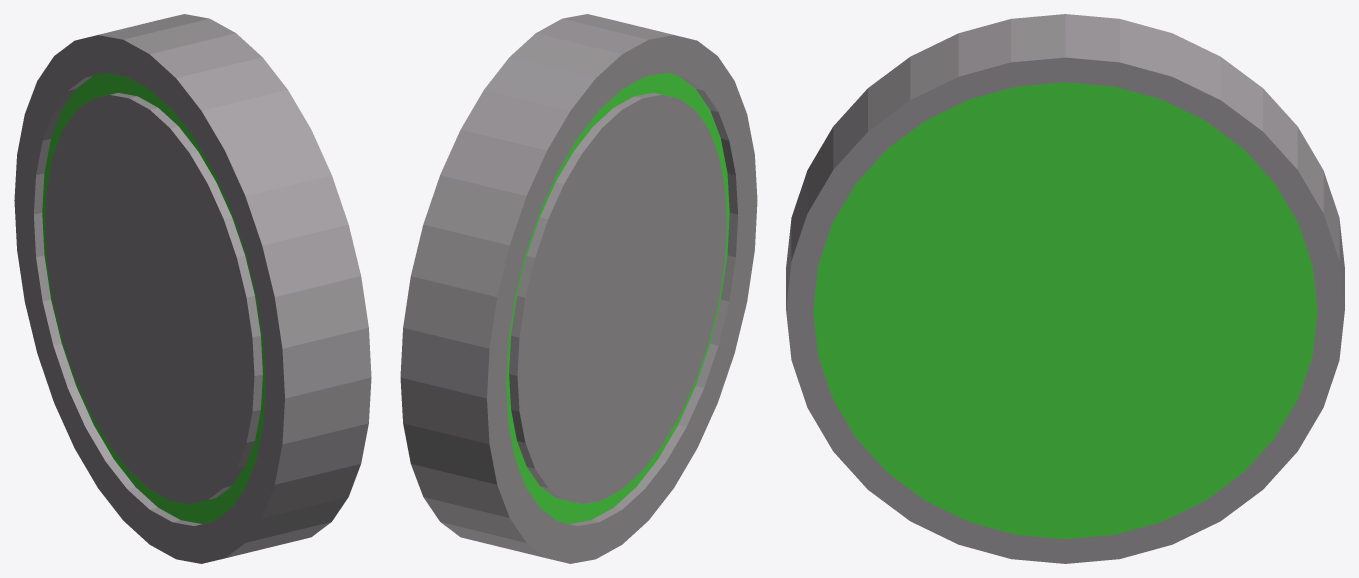
File: BotonAscensor.fbx
The picture shows the model from 3 angles, left to right: view 1: azimuth 30°, elevation 25°; view 2: azimuth 150°, elevation 25°; view 3: azimuth 270°, elevation 25°; orthographic projection. The views are drawn at different scales.
Visible parts, largest first — view 1: Cylinder.001; view 2: Cylinder.001; view 3: Cylinder.001.
Part boxes in pixels (x1,y1,x2,y2): Cylinder.001: (14, 14, 371, 563); Cylinder.001: (400, 14, 757, 563); Cylinder.001: (786, 14, 1344, 563).
Size of the model in its own units: 1.81 by 9.8 by 9.8.
